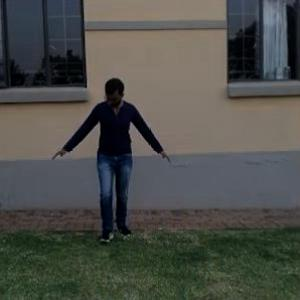land: (50, 56, 186, 258)
